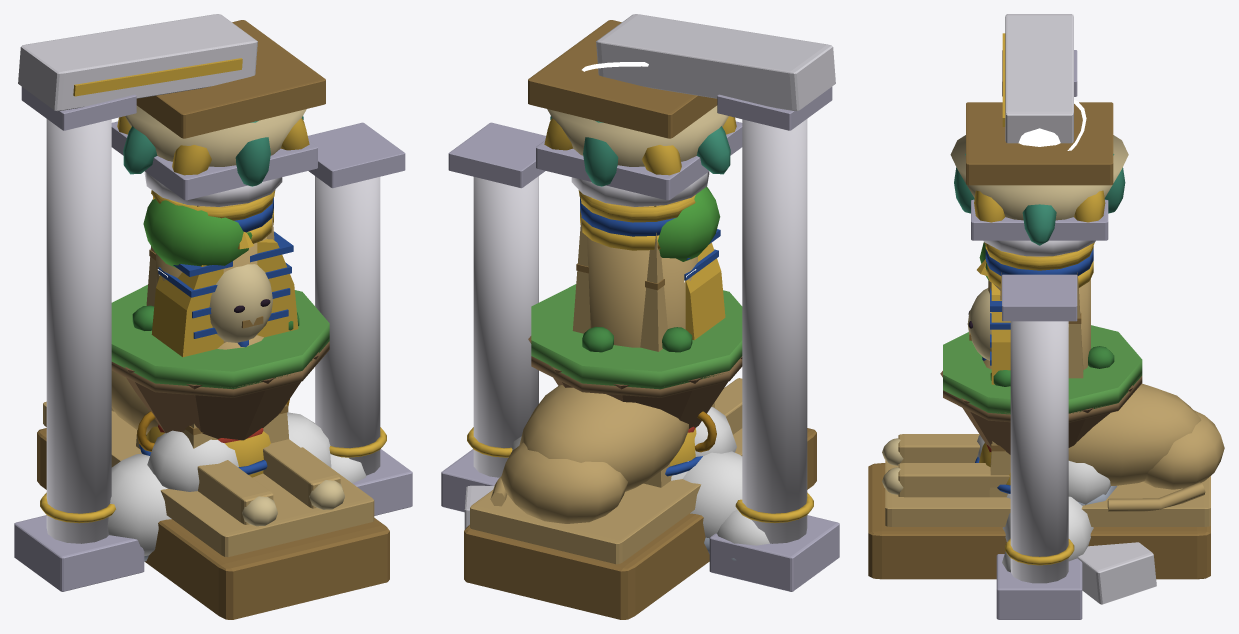
File: props.glb
The picture shows the model from 3 angles, left to right: view 1: azimuth 30°, elevation 25°; view 2: azimuth 150°, elevation 25°; view 3: azimuth 270°, elevation 25°; orthographic projection. The views are drawn at different scales.
Visible parts, largest first — view 1: broken_arch_body, sphinx_body, floating_isle_body, lotus_column_body, cloud_body, marble_column_body, gold_urn_body, obelisk_body; view 2: broken_arch_body, sphinx_body, lotus_column_body, floating_isle_body, marble_column_body, cloud_body, obelisk_body, gold_urn_body; view 3: sphinx_body, broken_arch_body, lotus_column_body, floating_isle_body, marble_column_body, cloud_body, obelisk_body, marble_column_glow.
Boxes of the visible parts, left/top/right/bottom form: broken_arch_body: left=14, top=14, right=412, bottom=591; sphinx_body: left=37, top=231, right=389, bottom=619; floating_isle_body: left=111, top=199, right=329, bottom=440; lotus_column_body: left=117, top=20, right=325, bottom=442; cloud_body: left=107, top=412, right=366, bottom=561; marble_column_body: left=111, top=121, right=317, bottom=217; gold_urn_body: left=137, top=399, right=289, bottom=477; obelisk_body: left=136, top=205, right=288, bottom=448; broken_arch_body: left=441, top=14, right=839, bottom=591; sphinx_body: left=464, top=229, right=816, bottom=619; lotus_column_body: left=528, top=20, right=736, bottom=432; floating_isle_body: left=528, top=186, right=742, bottom=428; marble_column_body: left=536, top=121, right=742, bottom=217; cloud_body: left=511, top=407, right=769, bottom=560; obelisk_body: left=572, top=205, right=715, bottom=487; gold_urn_body: left=665, top=411, right=716, bottom=476; sphinx_body: left=868, top=259, right=1224, bottom=579; broken_arch_body: left=996, top=14, right=1156, bottom=619; lotus_column_body: left=950, top=102, right=1128, bottom=451; floating_isle_body: left=940, top=242, right=1142, bottom=454; marble_column_body: left=971, top=199, right=1108, bottom=266; cloud_body: left=977, top=435, right=1117, bottom=572; obelisk_body: left=989, top=272, right=1083, bottom=497; marble_column_glow: left=1018, top=100, right=1086, bottom=150.
Bounding box in the file's own units: 2.11 × 2.97 × 2.08.
